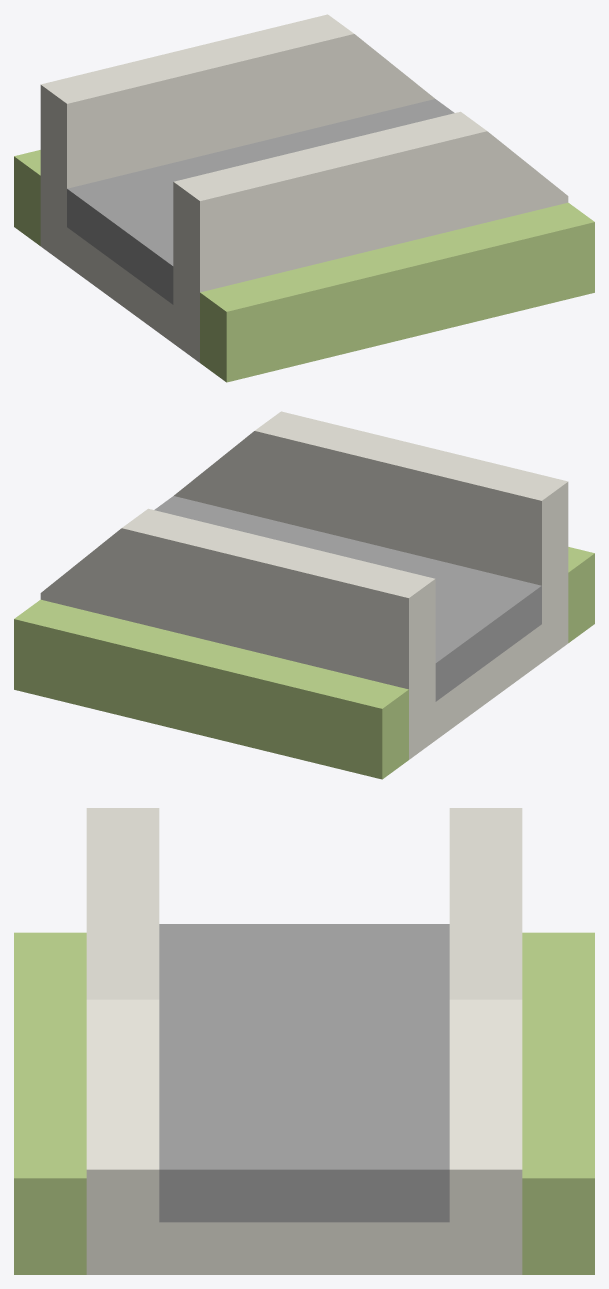
Rendered from road_tile_193.glb.
3 views of the same model, one above another, from view 1: azimuth 30°, elevation 25°; view 2: azimuth 150°, elevation 25°; view 3: azimuth 270°, elevation 25° (orthographic). The views are drawn at different scales.
Visible parts, largest first — view 1: roadTile_193; view 2: roadTile_193; view 3: roadTile_193.
Part boxes in pixels (left/top/right/bottom): roadTile_193: left=14, top=14, right=594, bottom=382; roadTile_193: left=14, top=411, right=594, bottom=779; roadTile_193: left=14, top=808, right=594, bottom=1274.
Size of the model in its own units: 3 by 1.26 by 3.
